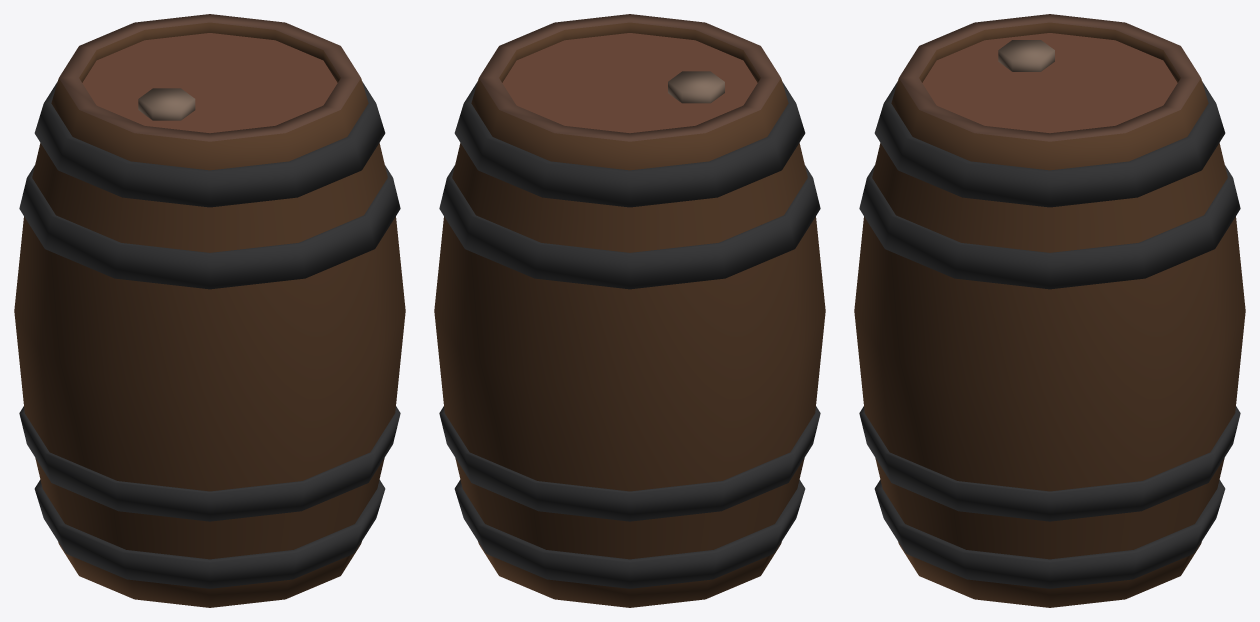
Rendered from Barrel 3.glb.
The picture shows the model from 3 angles, left to right: view 1: azimuth 30°, elevation 25°; view 2: azimuth 150°, elevation 25°; view 3: azimuth 270°, elevation 25°; orthographic projection.
Visible parts, largest first — view 1: Barrel3; view 2: Barrel3; view 3: Barrel3.
Part boxes in pixels (bbox=[...]): Barrel3: bbox=[14, 14, 405, 607]; Barrel3: bbox=[434, 14, 825, 607]; Barrel3: bbox=[854, 14, 1245, 607].
Size of what is drawn, in the model's own units: 0.725 by 0.9564 by 0.725.
1 material, 1 textured.
